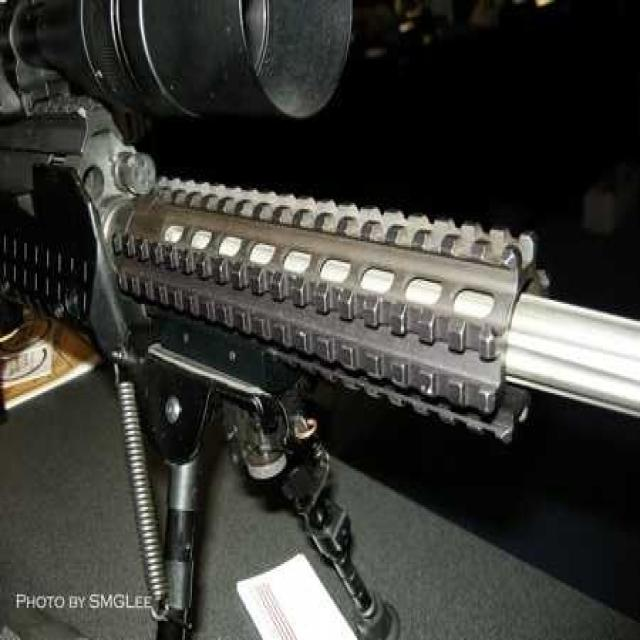heavyweapon: (1, 1, 640, 565)
